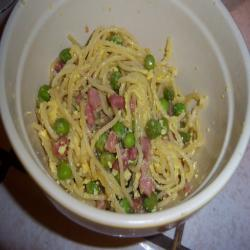carbonara: (24, 32, 218, 224)
